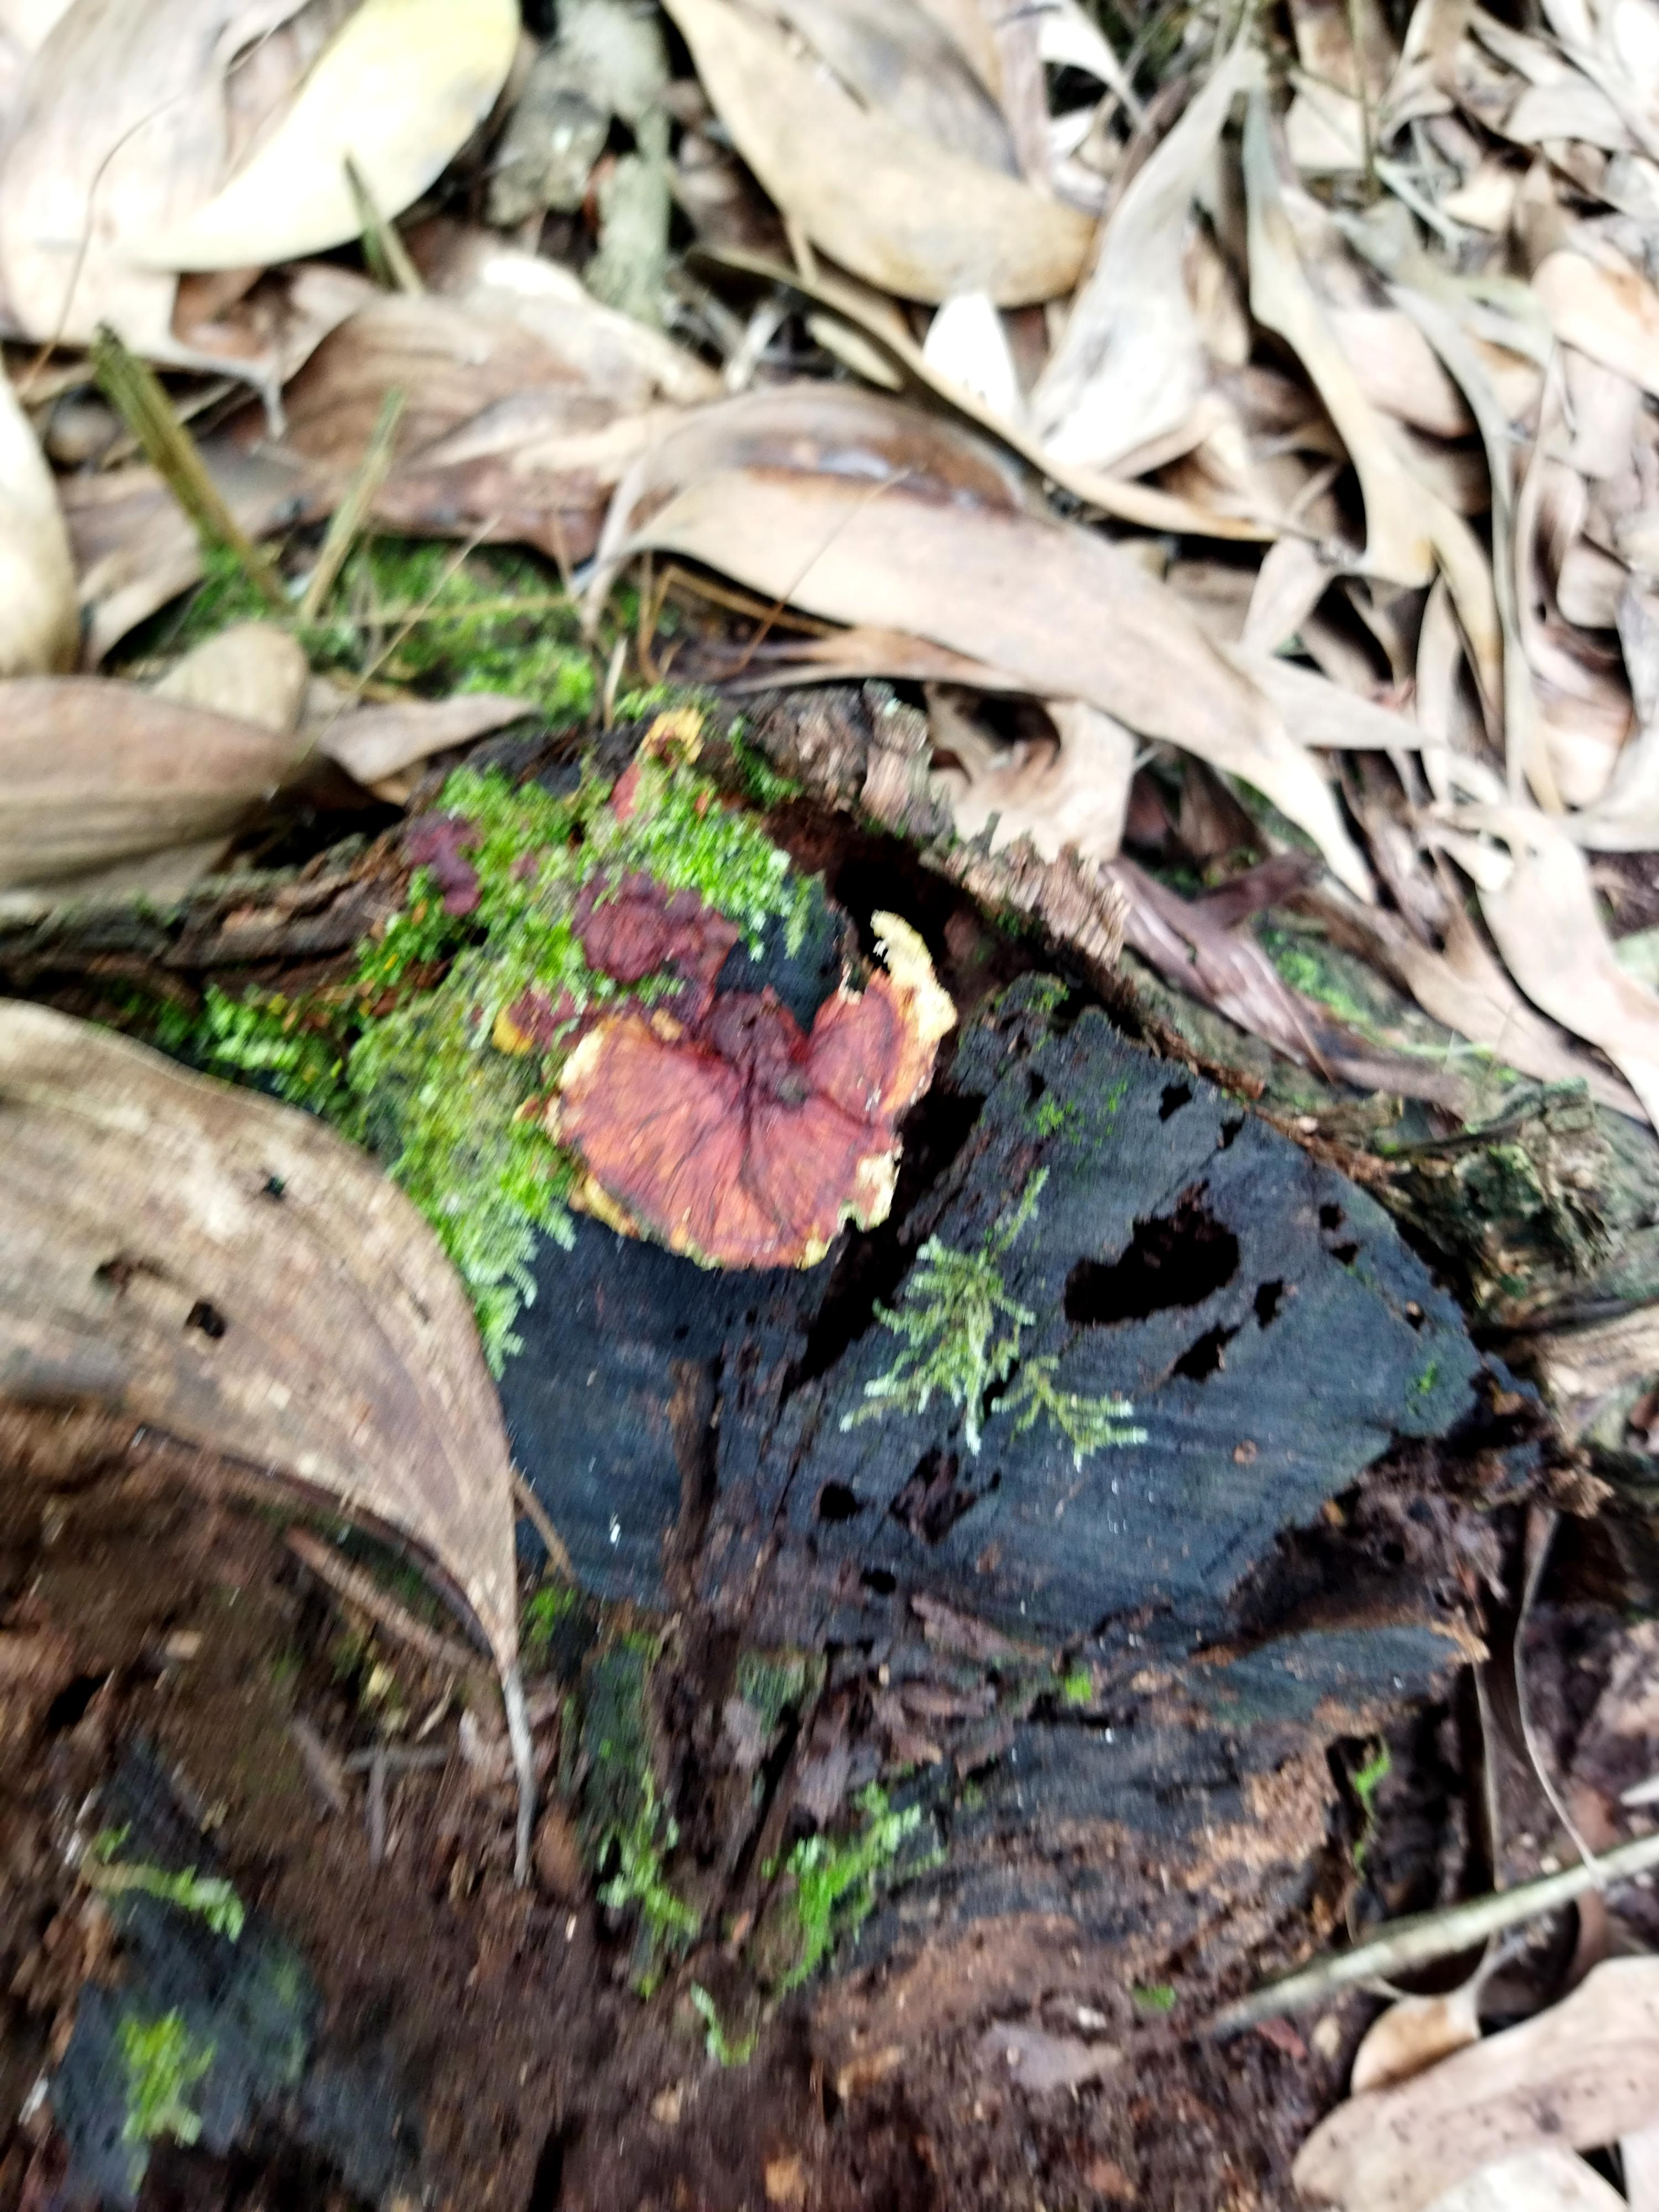Ganoderma - Fruit Body: (471, 902, 1009, 1252)
